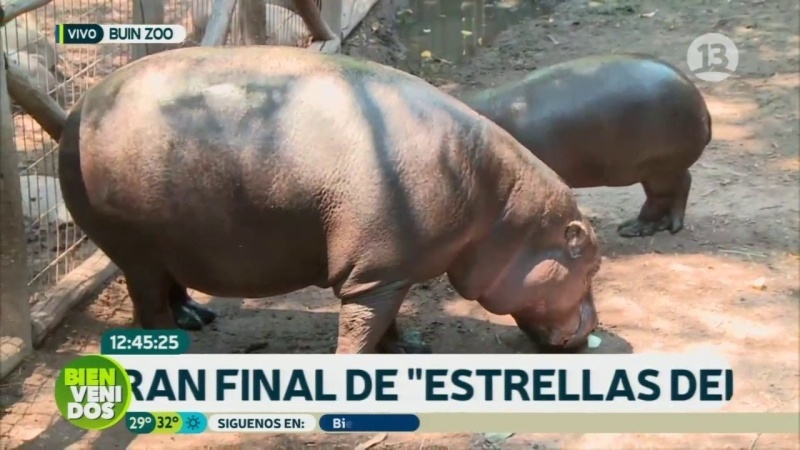hipopotamo: (51, 39, 626, 354), (444, 35, 717, 252)
